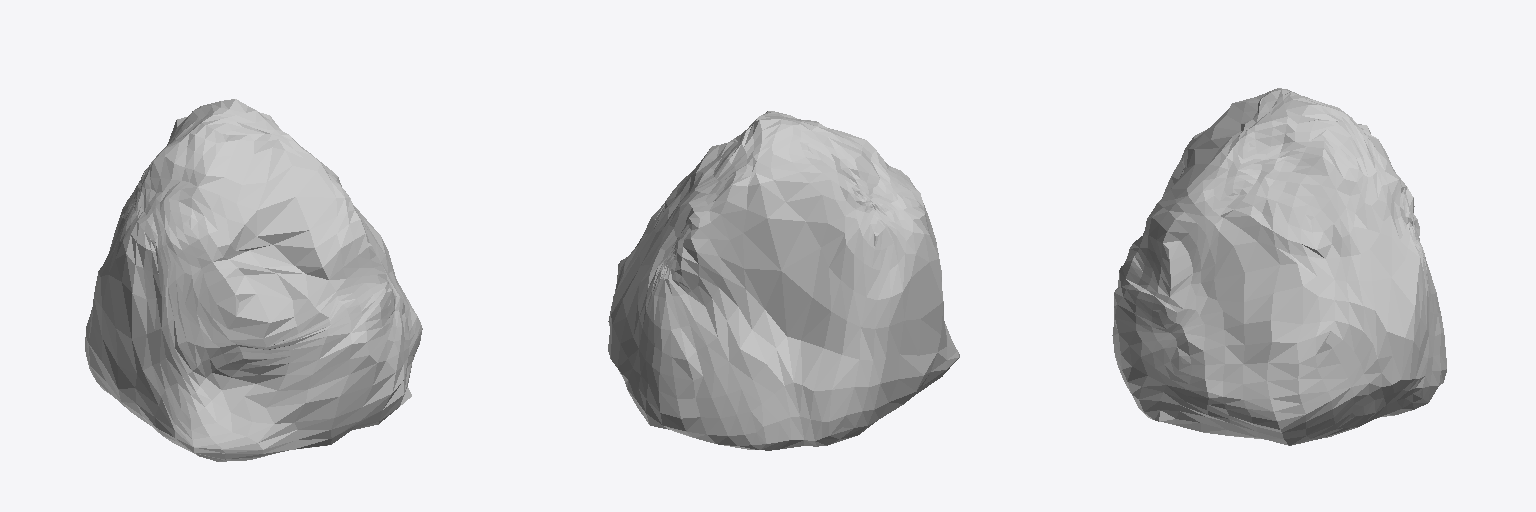
The model's file is Rock_01_Hite.OBJ.
3 views of the same model, side by side, from view 1: azimuth 30°, elevation 25°; view 2: azimuth 150°, elevation 25°; view 3: azimuth 270°, elevation 25° (orthographic).
Visible parts, largest first — view 1: Group2; view 2: Group2; view 3: Group2.
Part boxes in pixels (left/top/right/bottom): Group2: left=85, top=99, right=422, bottom=461; Group2: left=608, top=111, right=959, bottom=450; Group2: left=1112, top=88, right=1446, bottom=445.
Size of the model in its own units: 8.42 by 7.95 by 8.14.